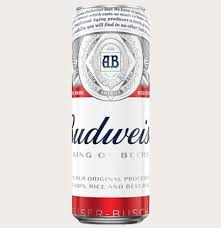can: (68, 1, 153, 228)
